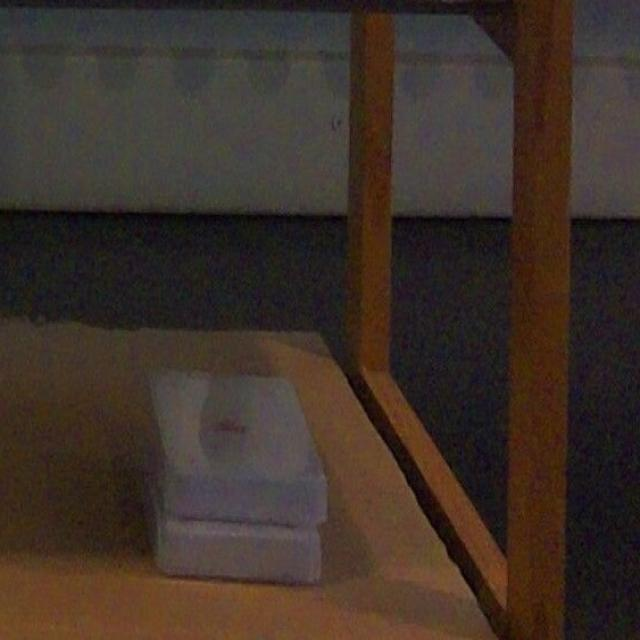Jasskarte: (150, 369, 325, 525), (149, 488, 319, 583)
